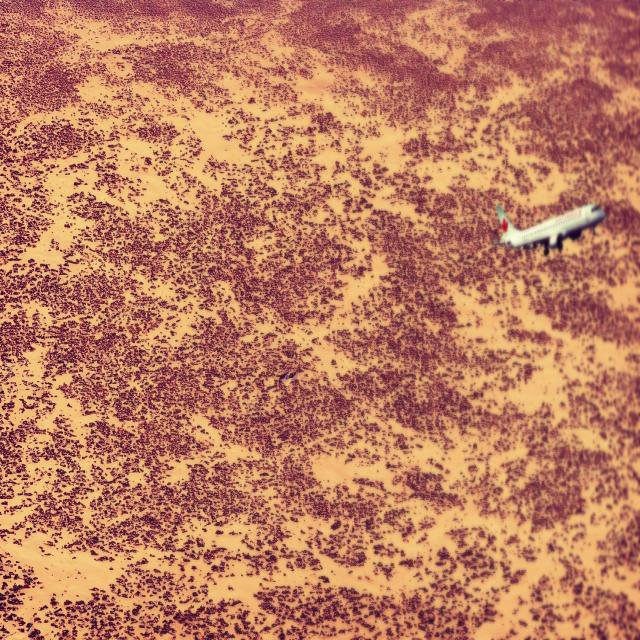airplane: (492, 201, 605, 255)
